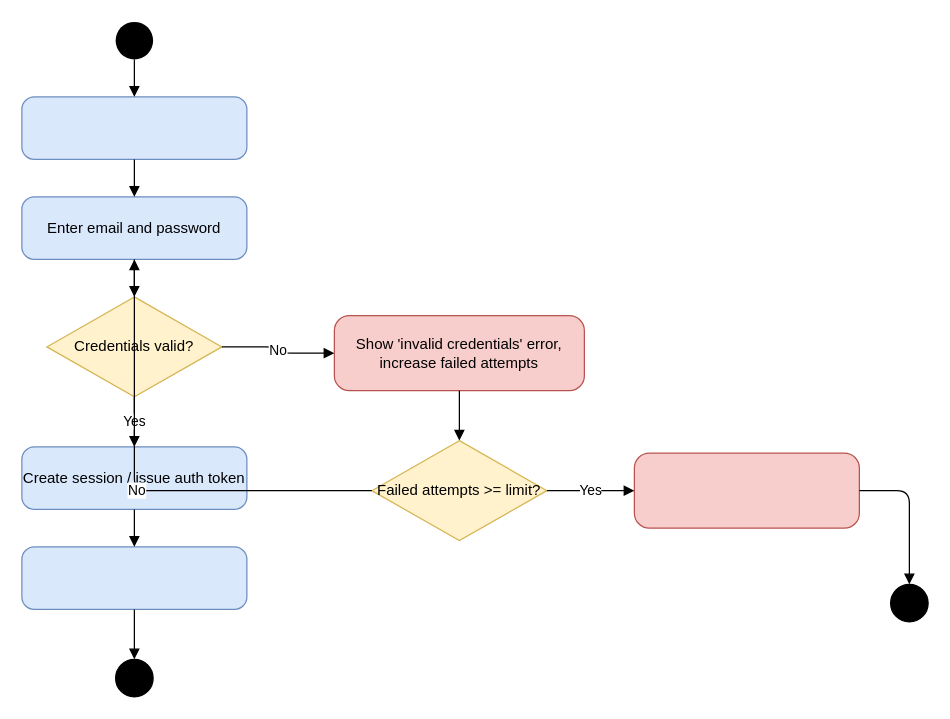
Some shapes in this 950 by 719 pixel diagram are drawn without their labels. Each missing label, with the centre of its shape:
Lock account temporarily and notify user: point 746,490
Open login page: point 134,127
Redirect to account dashboard: point 134,577
